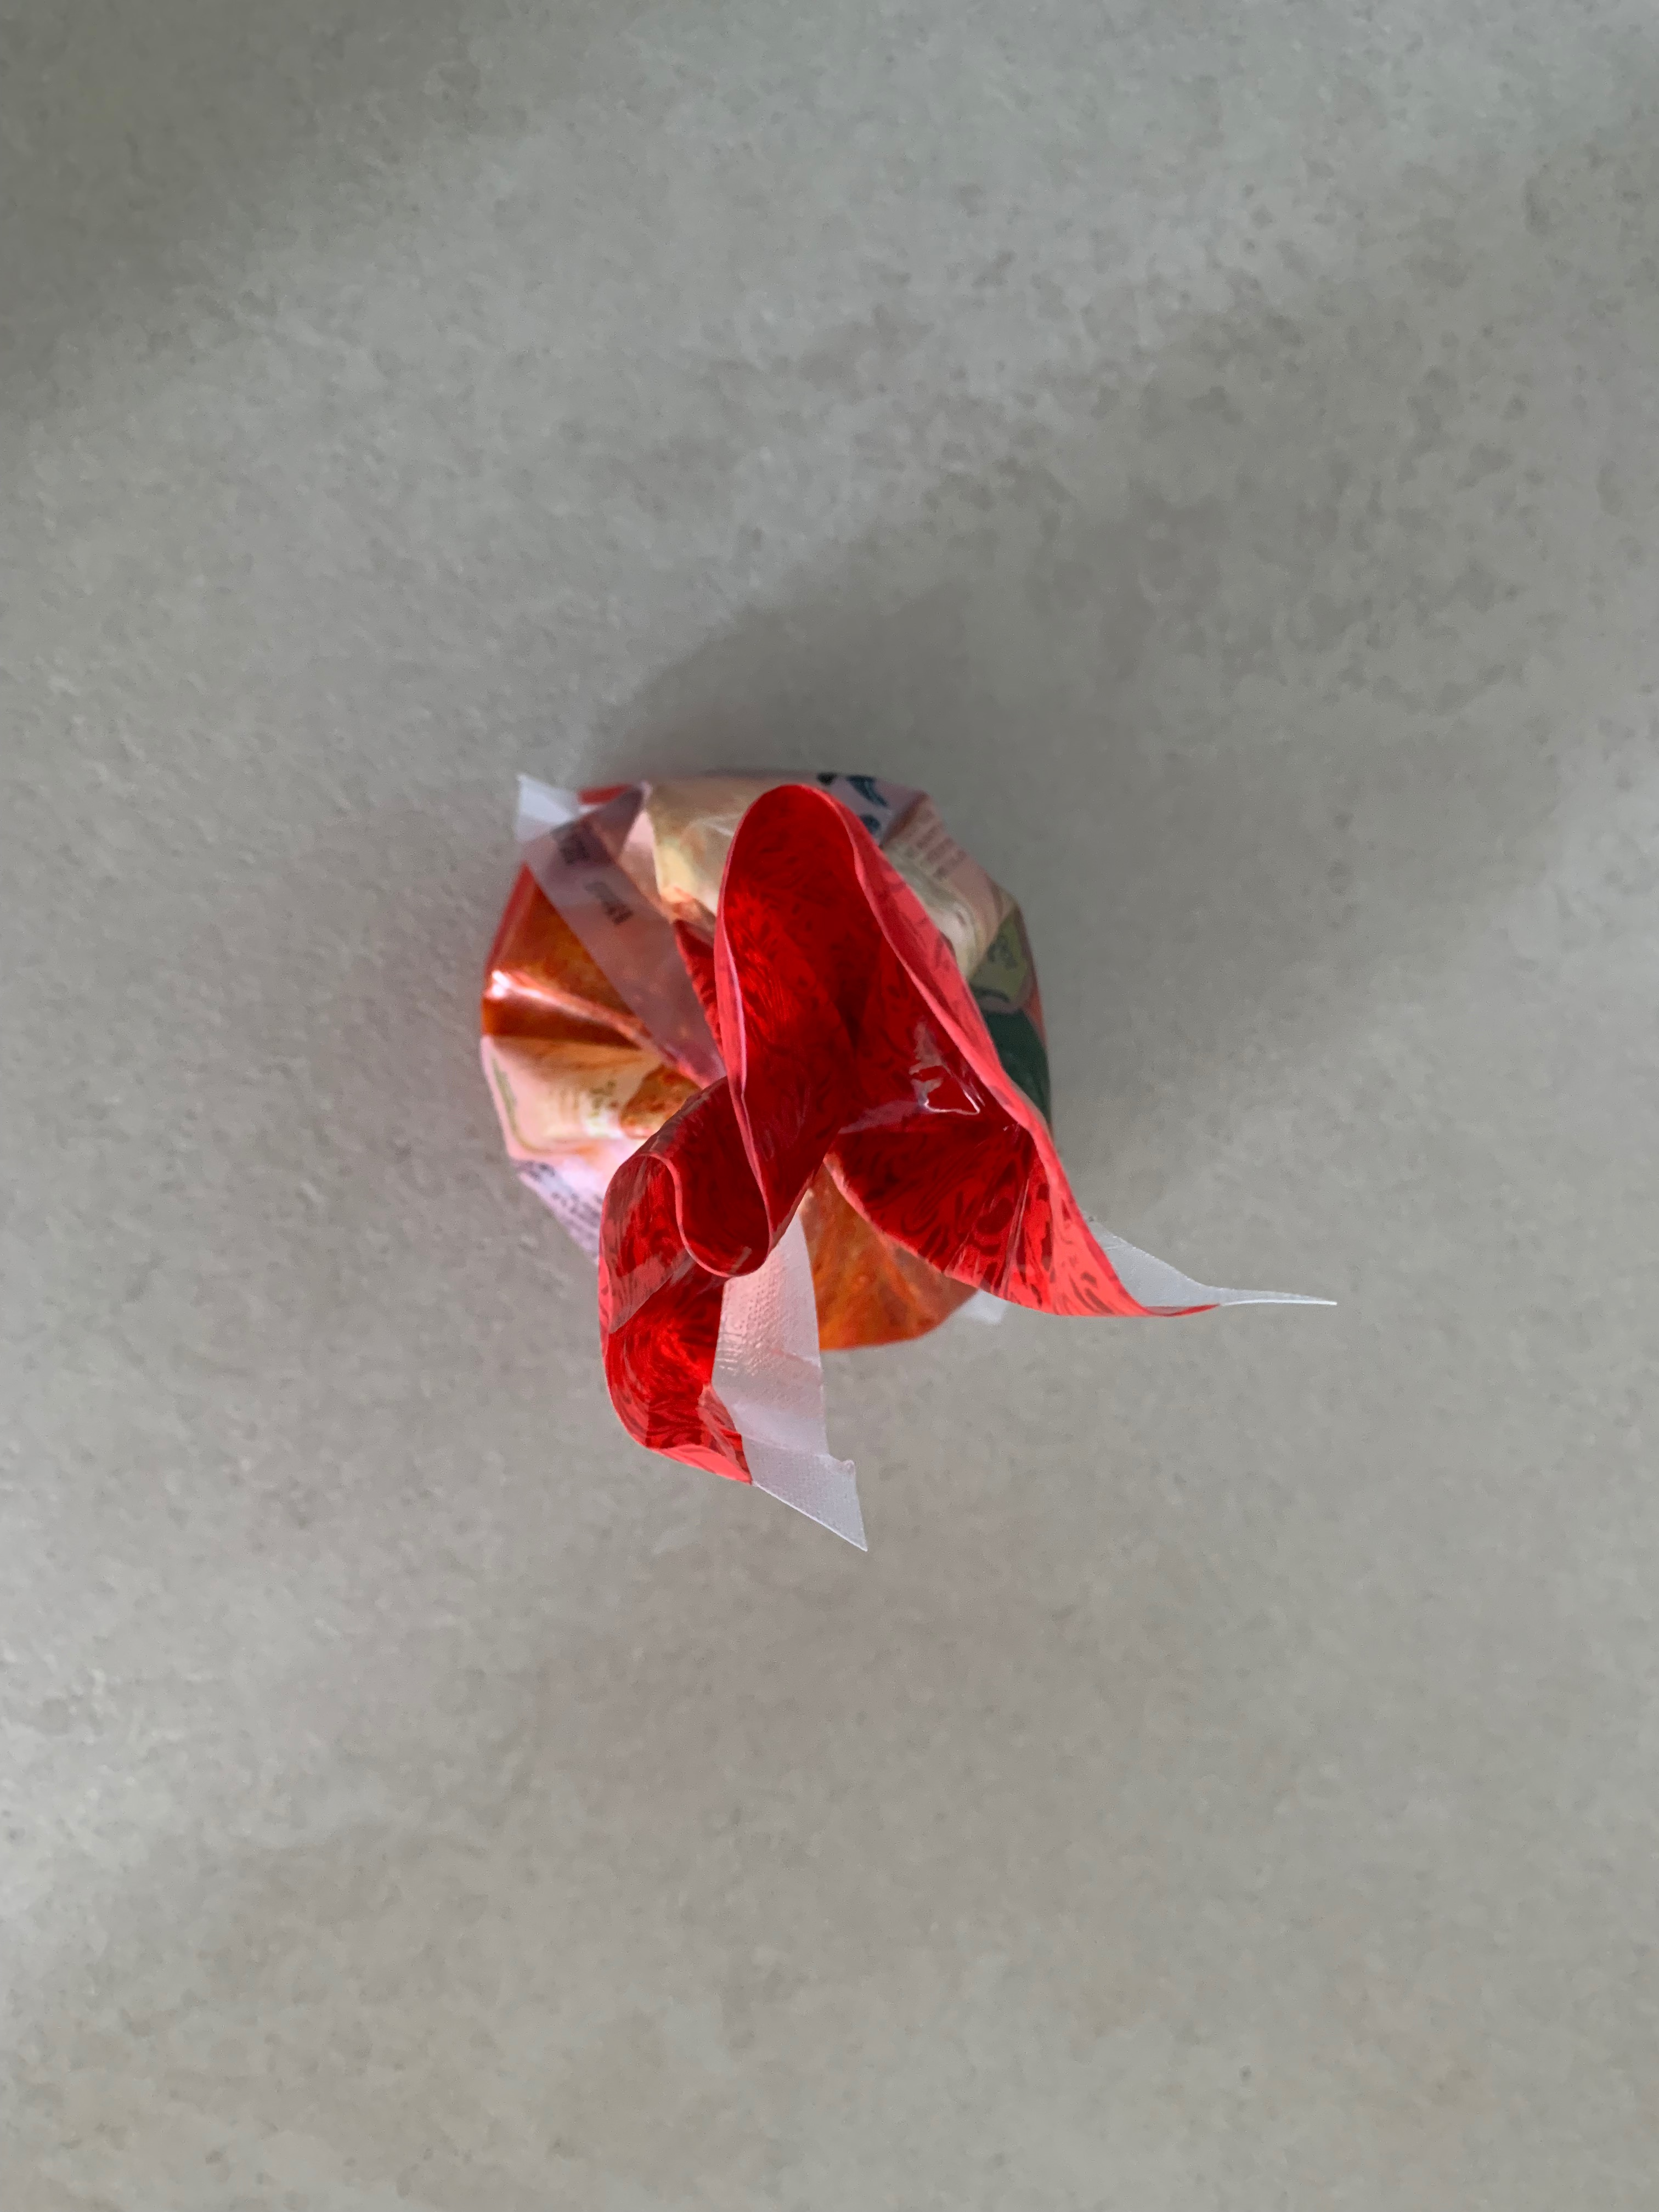kimchi: (479, 768, 1150, 1496)
